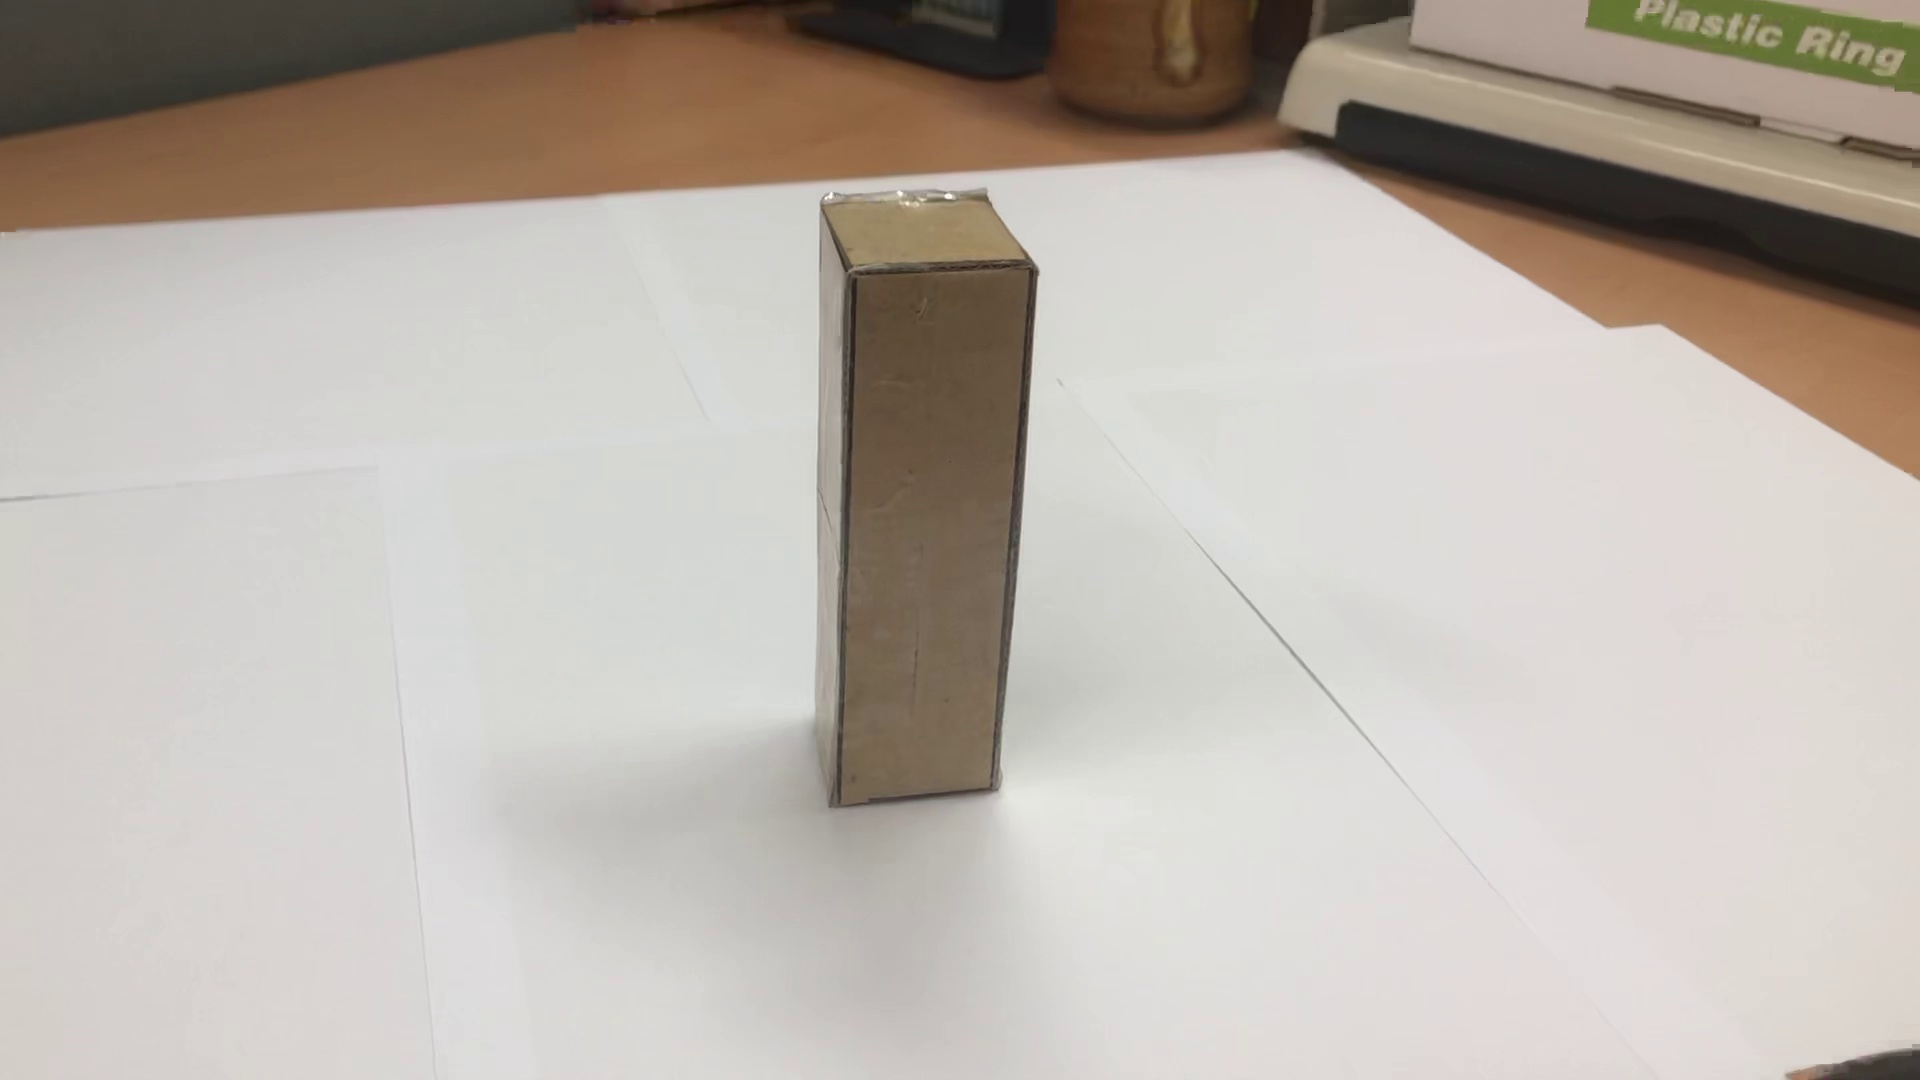box: (796, 189, 1051, 852)
